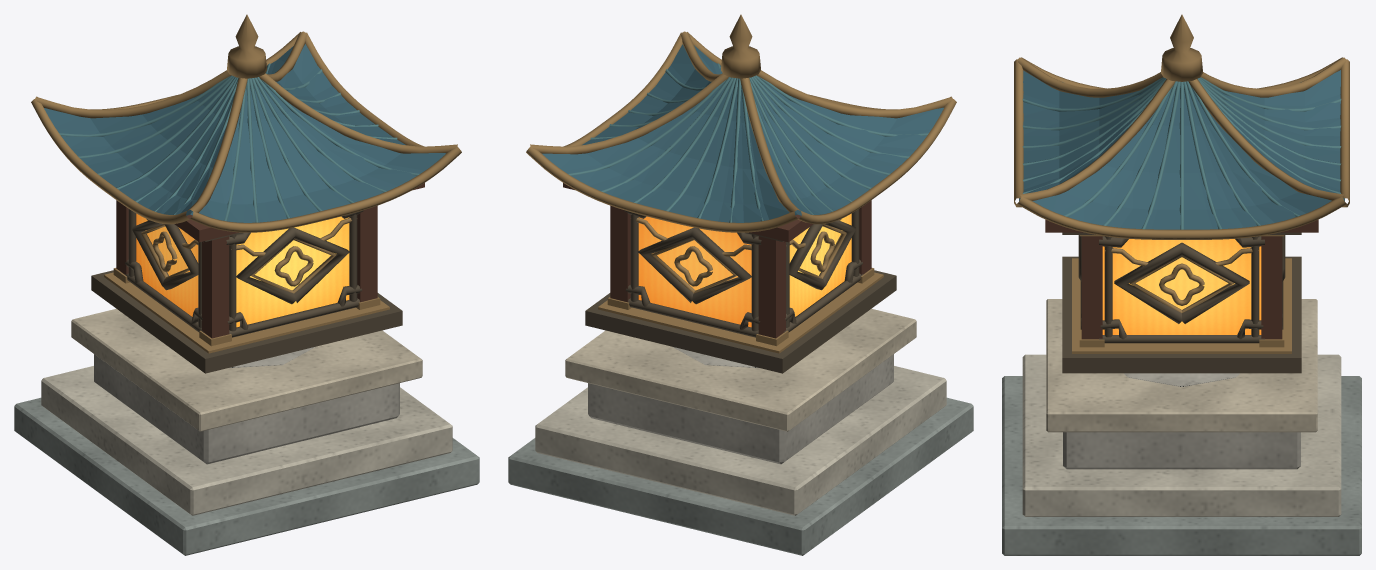
3 views of the same model, side by side, from view 1: azimuth 30°, elevation 25°; view 2: azimuth 150°, elevation 25°; view 3: azimuth 270°, elevation 25° (orthographic). The views are drawn at different scales.
Visible parts, largest first — view 1: E02_blue, E02_light, E02_gold, E02_cool, E02_relief, E02_bronze, E02_stone, E02_paper, E02_teal, E02_wood; view 2: E02_blue, E02_light, E02_gold, E02_cool, E02_relief, E02_bronze, E02_stone, E02_paper, E02_teal, E02_wood; view 3: E02_blue, E02_light, E02_gold, E02_cool, E02_relief, E02_bronze, E02_stone, E02_paper, E02_teal, E02_wood.
Part boxes in pixels (x1=…): E02_blue: x1=44, y1=44, x2=445, y2=222; E02_light: x1=41, y1=366, x2=452, y2=515; E02_gold: x1=31, y1=14, x2=461, y2=353; E02_cool: x1=14, y1=397, x2=479, y2=555; E02_relief: x1=71, y1=308, x2=422, y2=431; E02_bronze: x1=91, y1=209, x2=402, y2=373; E02_stone: x1=94, y1=346, x2=399, y2=464; E02_paper: x1=136, y1=213, x2=349, y2=327; E02_teal: x1=59, y1=63, x2=419, y2=222; E02_wood: x1=116, y1=183, x2=424, y2=338; E02_blue: x1=542, y1=44, x2=943, y2=222; E02_light: x1=535, y1=366, x2=946, y2=515; E02_gold: x1=526, y1=14, x2=956, y2=353; E02_cool: x1=508, y1=397, x2=973, y2=555; E02_relief: x1=565, y1=308, x2=916, y2=431; E02_bronze: x1=585, y1=209, x2=896, y2=373; E02_stone: x1=588, y1=346, x2=893, y2=464; E02_paper: x1=638, y1=213, x2=851, y2=327; E02_teal: x1=568, y1=63, x2=928, y2=222; E02_wood: x1=563, y1=183, x2=871, y2=338; E02_blue: x1=1019, y1=70, x2=1344, y2=229; E02_light: x1=1022, y1=354, x2=1341, y2=516; E02_gold: x1=1014, y1=14, x2=1349, y2=353; E02_cool: x1=1002, y1=376, x2=1361, y2=555; E02_relief: x1=1046, y1=299, x2=1317, y2=432; E02_bronze: x1=1062, y1=232, x2=1301, y2=373; E02_stone: x1=1063, y1=373, x2=1300, y2=469; E02_paper: x1=1102, y1=239, x2=1261, y2=334; E02_teal: x1=1022, y1=77, x2=1341, y2=229; E02_wood: x1=1045, y1=219, x2=1318, y2=339.
Bounding box in the file's own units: 1.08 × 1.55 × 1.08.
Materials: 10 (5 with a texture image).
